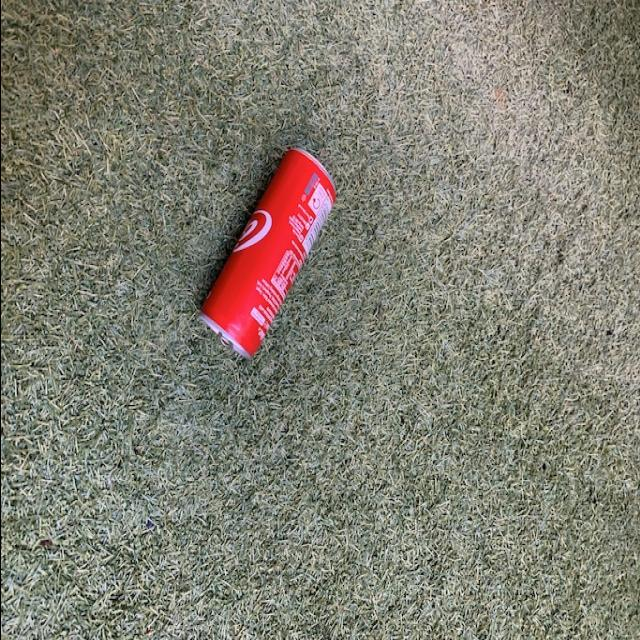Aluminum Can: (192, 138, 336, 376)
